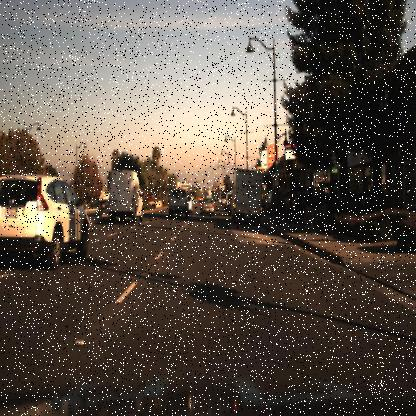car: (1, 167, 92, 273), (102, 161, 147, 231), (230, 164, 266, 231), (164, 189, 191, 220), (264, 186, 284, 221), (197, 198, 216, 219)
truck: (104, 168, 148, 226), (228, 165, 264, 225)
